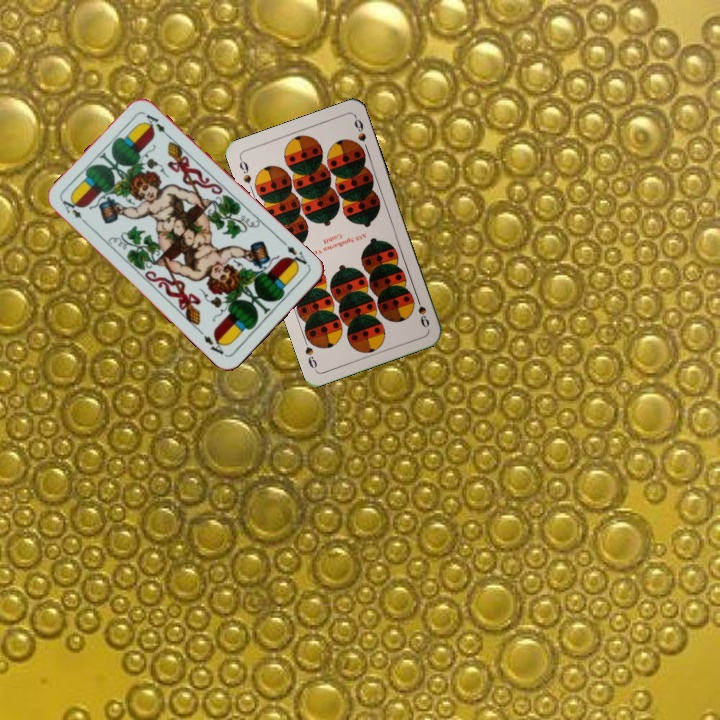EA: (278, 237, 312, 270), (58, 195, 91, 228)
S9: (412, 291, 432, 330), (235, 154, 254, 186)
